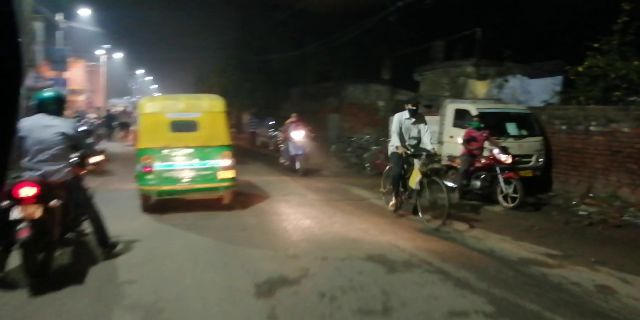Autorickshaw: (134, 89, 236, 212)
Cycle: (373, 94, 453, 232)
Motorbike: (9, 84, 82, 287), (276, 109, 314, 171)
